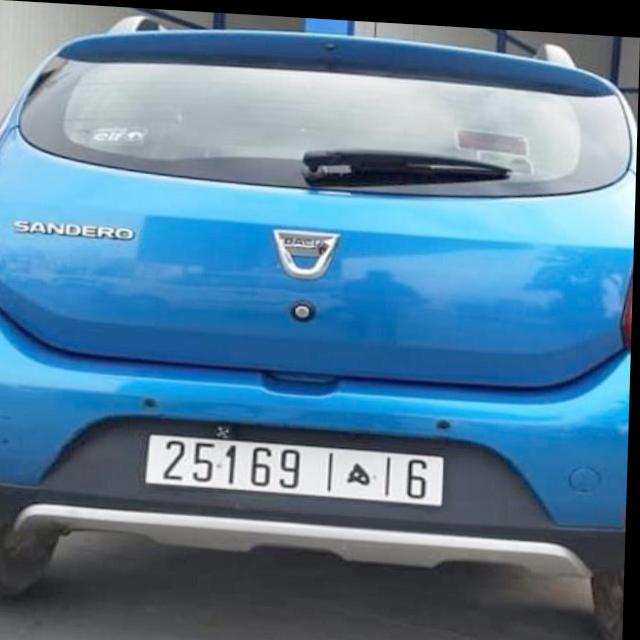License-Plate: (149, 433, 446, 501)
